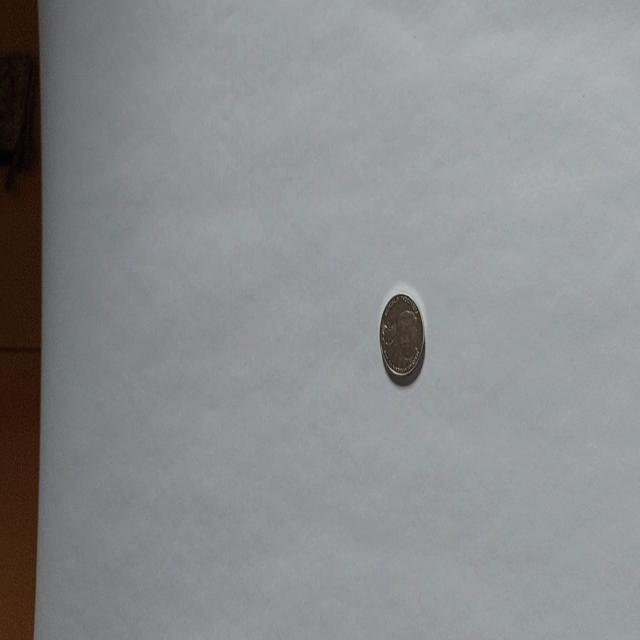seratus rupiah: (378, 290, 426, 386)
